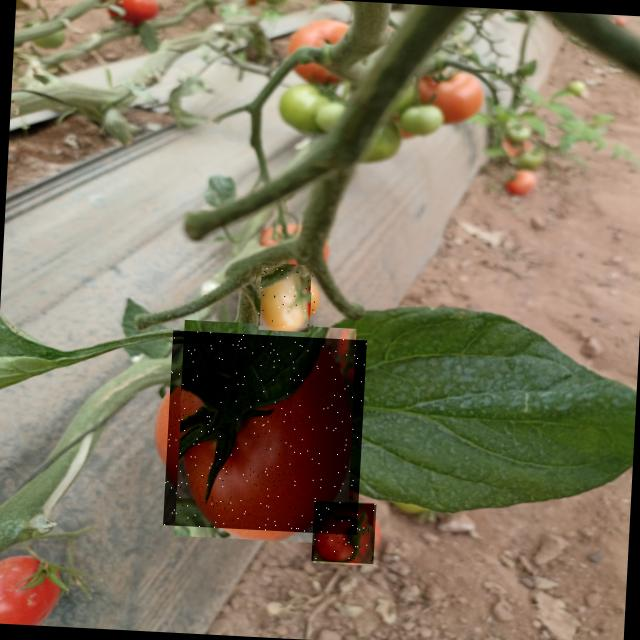Ripe Tomato: (163, 330, 367, 536), (312, 501, 376, 564)
Unripe Tomato: (254, 266, 316, 328)
